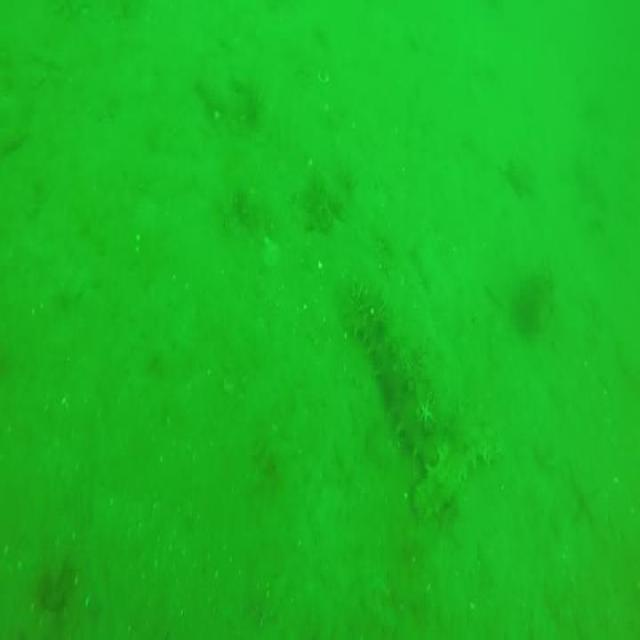holothurian: (353, 289, 443, 463), (412, 436, 516, 517)
